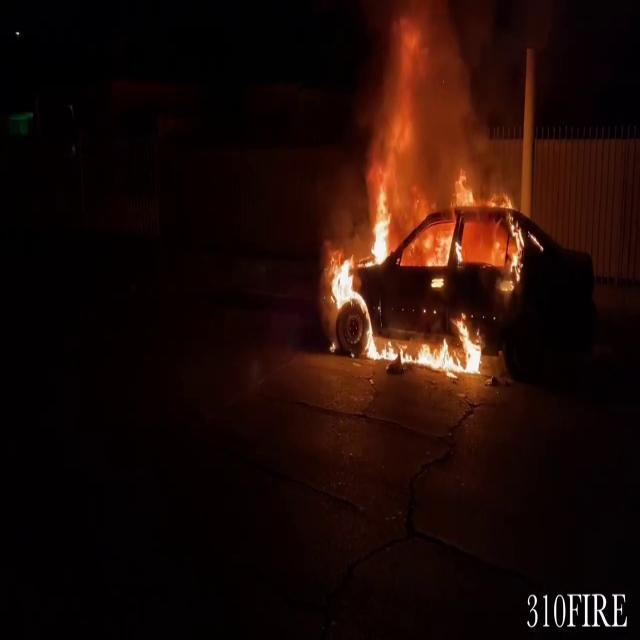Fire: (316, 11, 506, 375), (406, 311, 492, 380)
